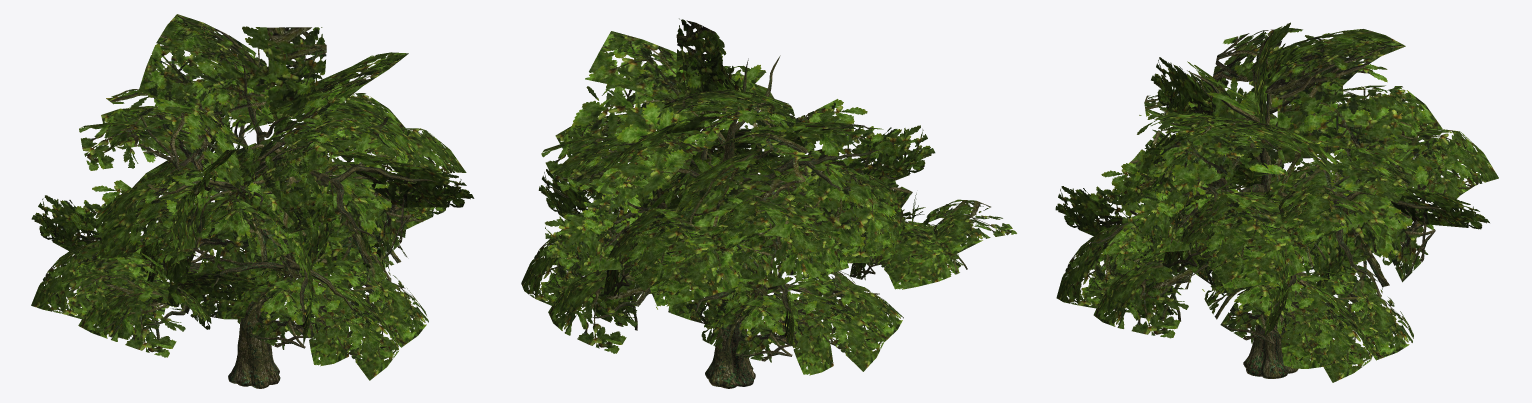
The model's file is oak.gltf.
3 views of the same model, side by side, from view 1: azimuth 30°, elevation 25°; view 2: azimuth 150°, elevation 25°; view 3: azimuth 270°, elevation 25° (orthographic).
Parts seen in each view (by area): view 1: oak_prim8_59_StaticMeshComponent0, oak_prim7_57_StaticMeshComponent0, oak_prim13_39_StaticMeshComponent0, oak_prim5_53_StaticMeshComponent0, oak_prim11_35_StaticMeshComponent0, oak_prim15_43_StaticMeshComponent0, oak_prim3_49_StaticMeshComponent0, oak_prim1_31_StaticMeshComponent0, oak_prim9_61_StaticMeshComponent0, oak_prim4_51_StaticMeshComponent0, oak_prim12_37_StaticMeshComponent0, oak_prim16_45_StaticMeshComponent0 (+2 smaller); view 2: oak_prim8_59_StaticMeshComponent0, oak_prim3_49_StaticMeshComponent0, oak_prim7_57_StaticMeshComponent0, oak_prim15_43_StaticMeshComponent0, oak_prim1_31_StaticMeshComponent0, oak_prim11_35_StaticMeshComponent0, oak_prim5_53_StaticMeshComponent0, oak_prim9_61_StaticMeshComponent0, oak_prim16_45_StaticMeshComponent0, oak_prim6_55_StaticMeshComponent0, oak_prim0_29_StaticMeshComponent0, oak_prim14_41_StaticMeshComponent0 (+1 smaller); view 3: oak_prim8_59_StaticMeshComponent0, oak_prim5_53_StaticMeshComponent0, oak_prim3_49_StaticMeshComponent0, oak_prim1_31_StaticMeshComponent0, oak_prim13_39_StaticMeshComponent0, oak_prim7_57_StaticMeshComponent0, oak_prim0_29_StaticMeshComponent0, oak_prim11_35_StaticMeshComponent0, oak_prim16_45_StaticMeshComponent0, oak_prim2_47_StaticMeshComponent0, oak_prim4_51_StaticMeshComponent0.
Part boxes in pixels (x1,y1,x2,y2): oak_prim8_59_StaticMeshComponent0: [93, 14, 424, 190]; oak_prim7_57_StaticMeshComponent0: [96, 125, 335, 281]; oak_prim13_39_StaticMeshComponent0: [198, 195, 428, 380]; oak_prim5_53_StaticMeshComponent0: [244, 93, 474, 274]; oak_prim11_35_StaticMeshComponent0: [61, 235, 259, 337]; oak_prim15_43_StaticMeshComponent0: [31, 179, 225, 357]; oak_prim3_49_StaticMeshComponent0: [79, 105, 344, 197]; oak_prim1_31_StaticMeshComponent0: [289, 164, 447, 278]; oak_prim9_61_StaticMeshComponent0: [228, 306, 270, 388]; oak_prim4_51_StaticMeshComponent0: [285, 150, 439, 237]; oak_prim12_37_StaticMeshComponent0: [213, 258, 405, 337]; oak_prim16_45_StaticMeshComponent0: [180, 49, 343, 320]; oak_prim8_59_StaticMeshComponent0: [552, 18, 883, 238]; oak_prim3_49_StaticMeshComponent0: [545, 167, 827, 306]; oak_prim7_57_StaticMeshComponent0: [733, 84, 935, 291]; oak_prim15_43_StaticMeshComponent0: [668, 244, 903, 375]; oak_prim1_31_StaticMeshComponent0: [521, 156, 723, 353]; oak_prim11_35_StaticMeshComponent0: [846, 175, 1016, 289]; oak_prim5_53_StaticMeshComponent0: [541, 103, 795, 220]; oak_prim9_61_StaticMeshComponent0: [721, 316, 755, 388]; oak_prim16_45_StaticMeshComponent0: [676, 55, 797, 303]; oak_prim6_55_StaticMeshComponent0: [737, 149, 884, 228]; oak_prim0_29_StaticMeshComponent0: [705, 328, 726, 386]; oak_prim14_41_StaticMeshComponent0: [695, 283, 879, 342]; oak_prim8_59_StaticMeshComponent0: [1142, 22, 1417, 204]; oak_prim5_53_StaticMeshComponent0: [1122, 119, 1394, 288]; oak_prim3_49_StaticMeshComponent0: [1269, 85, 1498, 306]; oak_prim1_31_StaticMeshComponent0: [1179, 185, 1413, 382]; oak_prim13_39_StaticMeshComponent0: [1055, 163, 1204, 338]; oak_prim7_57_StaticMeshComponent0: [1138, 57, 1340, 197]; oak_prim0_29_StaticMeshComponent0: [1246, 294, 1298, 378]; oak_prim11_35_StaticMeshComponent0: [1128, 88, 1290, 191]; oak_prim16_45_StaticMeshComponent0: [1187, 36, 1321, 301]; oak_prim2_47_StaticMeshComponent0: [1314, 157, 1446, 279]; oak_prim4_51_StaticMeshComponent0: [1131, 183, 1290, 212].
Bounding box in the file's own units: 16.39 × 12.39 × 15.17.
9 materials, 9 textured.
